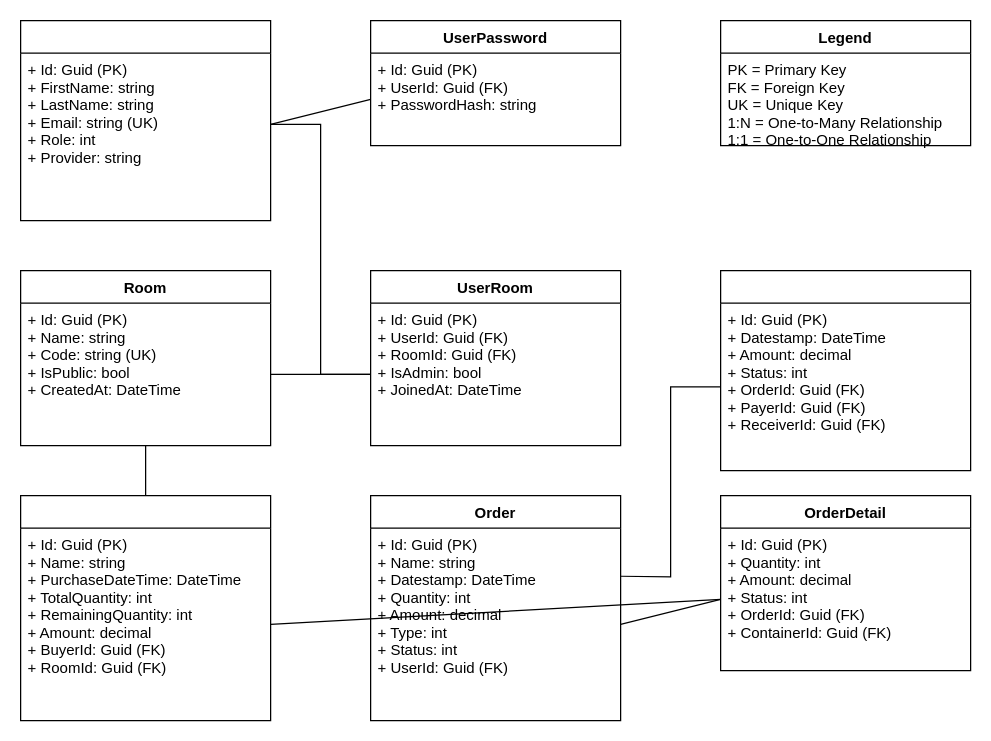
The diagram is 991 pixels wide and 741 high, and some of its shapes have lost their labels. Here are the shapes that lost their labels. From the top down, the box of each, then its label:
(19, 19, 271, 221): User
(719, 269, 971, 471): Transaction
(19, 494, 271, 721): Container
